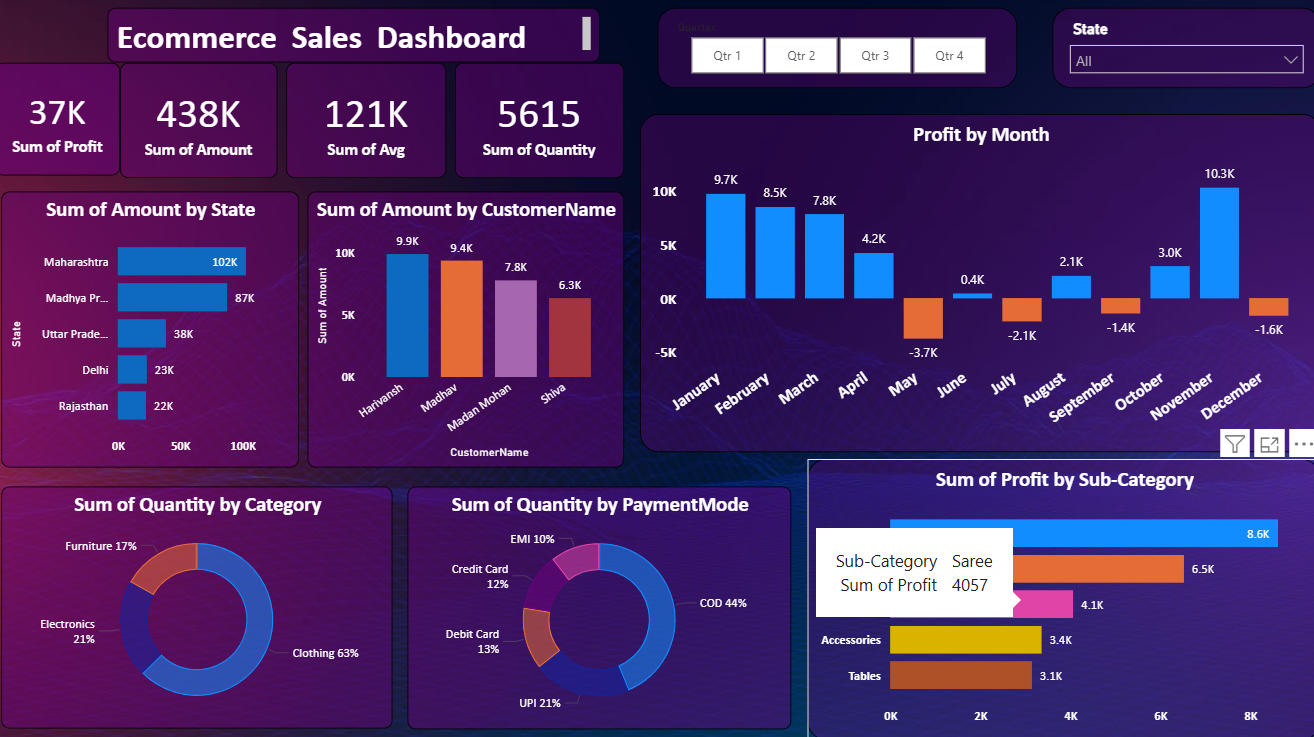

What the dashboard file says about the page in this screenshot:
{"tool":"powerbi","page":{"name":"Page 1","canvas":[1280,720],"ordinal":0},"visuals":[{"type":"textbox","box":[108.6,13.3,475.3,53.1],"z":0},{"type":"columnChart","title":" Profit by Month","fields":{"Category":["Orders (1).Order Date.Variation.Date Hierarchy.Month"],"Y":["Sum(Details (2).Profit)"]},"box":[623,115.3,657.3,326],"z":1000},{"type":"donutChart","fields":{"Category":["Details (2).Category"],"Y":["Sum(Details (2).Quantity)"]},"box":[6.1,475.7,377.9,233.6],"z":2000},{"type":"donutChart","fields":{"Y":["Sum(Details (2).Quantity)"],"Category":["Details (2).PaymentMode"]},"box":[398.1,475.3,370.4,234],"z":3000},{"type":"card","fields":{"Values":["Sum(Details.Quantity)"]},"box":[444,66.4,162.9,111],"z":4000},{"type":"card","fields":{"Values":["Sum(Details.Avg)"]},"box":[281.1,66.4,154.4,111],"z":5000},{"type":"card","fields":{"Values":["Sum(Details (2).Profit)"]},"box":[0,66.4,120.6,109],"z":6000},{"type":"card","fields":{"Values":["Sum(Details (2).Amount)"]},"box":[120.6,66.4,152,111],"z":7000},{"type":"barChart","fields":{"Category":["Orders (1).State"],"Y":["Sum(Details.Amount)"]},"box":[6,190.6,287.1,266.6],"z":8000},{"type":"barChart","fields":{"Category":["Details (2).Sub-Category"],"Y":["Sum(Details (2).Profit)"]},"box":[783.8,448.8,495.2,271.5],"z":9000},{"type":"columnChart","fields":{"Category":["Orders (1).CustomerName"],"Y":["Sum(Details.Amount)"]},"box":[301.6,190.6,305.2,266.6],"z":10000},{"type":"slicer","fields":{"Values":["Orders (1).Order Date.Variation.Date Hierarchy.Quarter"]},"box":[639.4,13.3,347.5,77.2],"z":11000},{"type":"slicer","fields":{"Values":["Orders (1).State"]},"box":[1020.6,13.3,259.4,77.2],"z":12000}]}

Visuals, with their boxes in screenshot pixels (x1, y1, x2, y2), scaled from the page's 1280x720 canvas onto the 1314x737 screenshot:
textbox: (111, 14, 599, 68)
" Profit by Month" columnChart: (640, 118, 1313, 452)
donutChart - Details (2).Category x Sum(Details (2).Quantity): (6, 487, 394, 726)
donutChart - Sum(Details (2).Quantity) x Details (2).PaymentMode: (409, 487, 789, 726)
card - Sum(Details.Quantity): (456, 68, 623, 182)
card - Sum(Details.Avg): (289, 68, 447, 182)
card - Sum(Details (2).Profit): (0, 68, 124, 180)
card - Sum(Details (2).Amount): (124, 68, 280, 182)
barChart - Orders (1).State x Sum(Details.Amount): (6, 195, 301, 468)
barChart - Details (2).Sub-Category x Sum(Details (2).Profit): (805, 459, 1313, 736)
columnChart - Orders (1).CustomerName x Sum(Details.Amount): (310, 195, 623, 468)
slicer - Orders (1).Order Date.Variation.Date Hierarchy.Quarter: (656, 14, 1013, 93)
slicer - Orders (1).State: (1048, 14, 1313, 93)
